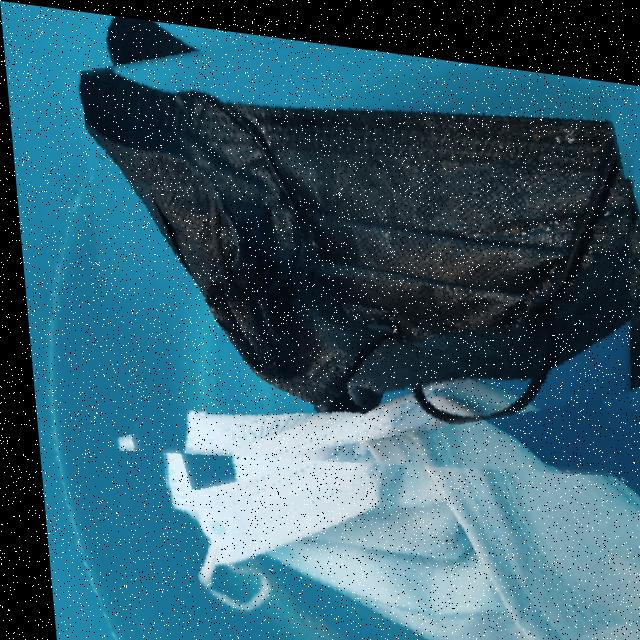mask: (75, 8, 640, 510), (147, 341, 640, 640)
